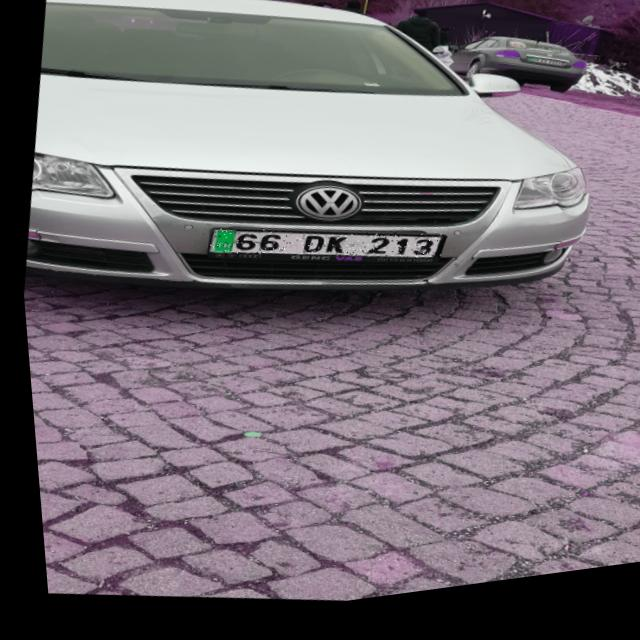plate: (201, 210, 440, 295)
